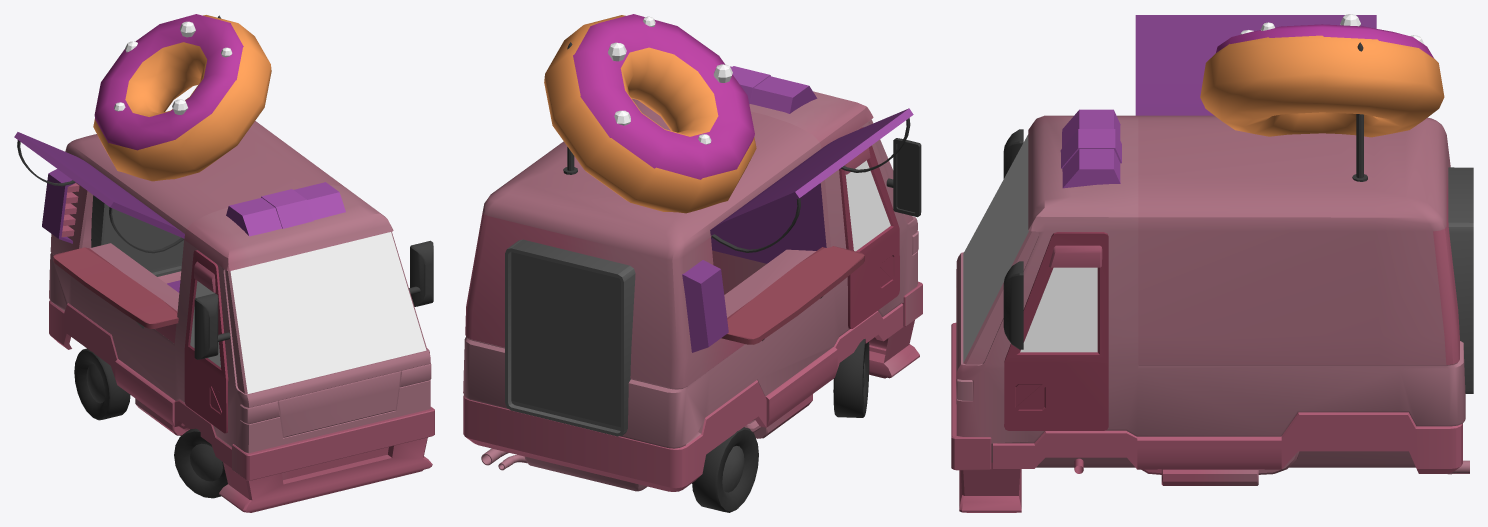
The model's file is Donattruck.fbx.
The picture shows the model from 3 angles, left to right: view 1: azimuth 30°, elevation 25°; view 2: azimuth 150°, elevation 25°; view 3: azimuth 270°, elevation 25°; orthographic projection. The views are drawn at different scales.
Visible parts, largest first — view 1: SM_Van_01_M_Van_01_0; view 2: SM_Van_01_M_Van_01_0; view 3: SM_Van_01_M_Van_01_0.
Part boxes in pixels (x1=…): SM_Van_01_M_Van_01_0: x1=14, y1=14, x2=434, y2=512; SM_Van_01_M_Van_01_0: x1=463, y1=14, x2=922, y2=512; SM_Van_01_M_Van_01_0: x1=951, y1=14, x2=1473, y2=512.
Size of the model in its own units: 341 by 439 by 444.
